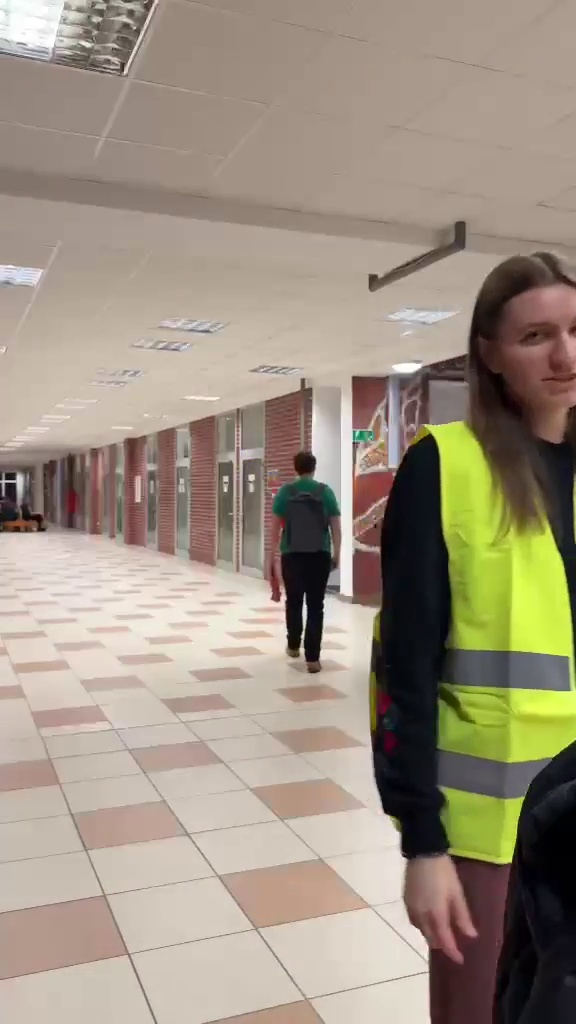no vest: (262, 437, 347, 667)
vest: (395, 243, 576, 1001)
